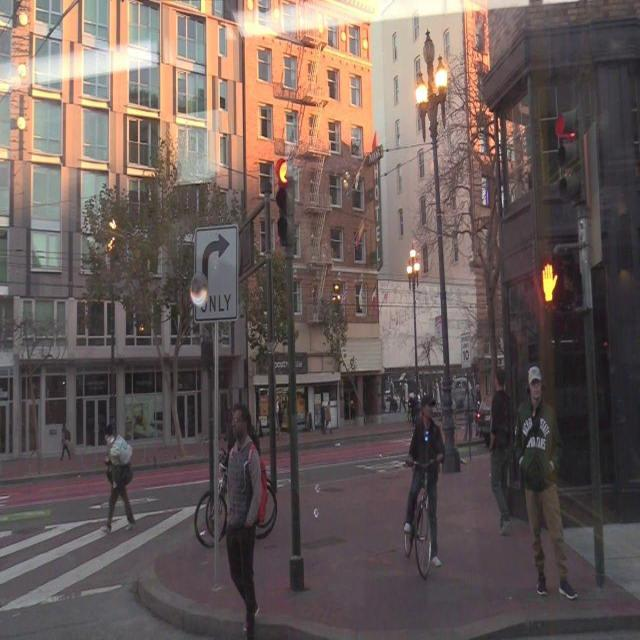other: (252, 6, 374, 75), (9, 12, 32, 147), (252, 444, 275, 536), (540, 249, 568, 312), (417, 80, 449, 116), (272, 152, 297, 188)
